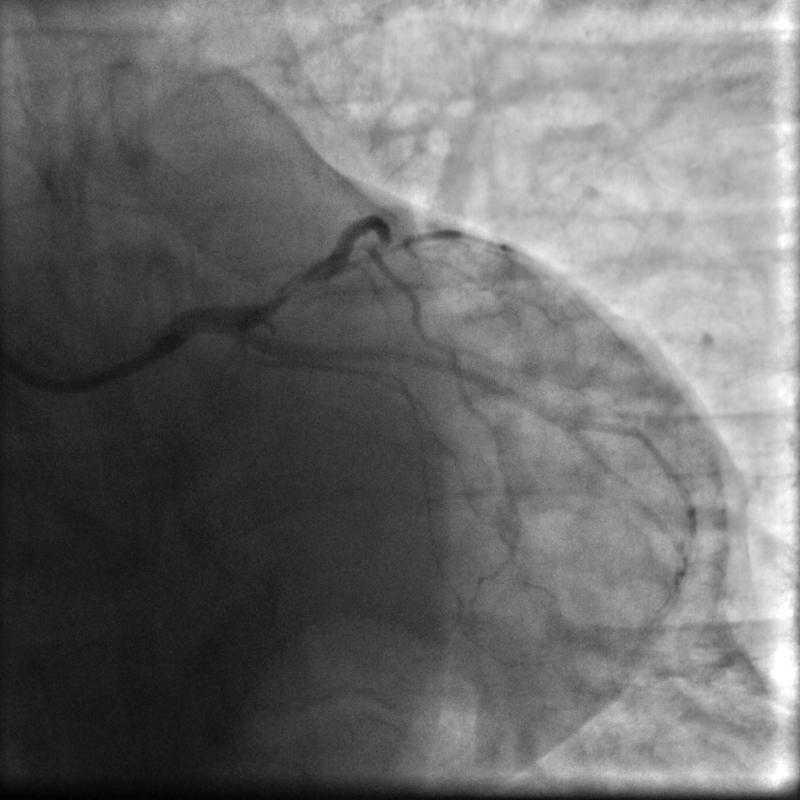Stenosis: (251, 268, 319, 306)
